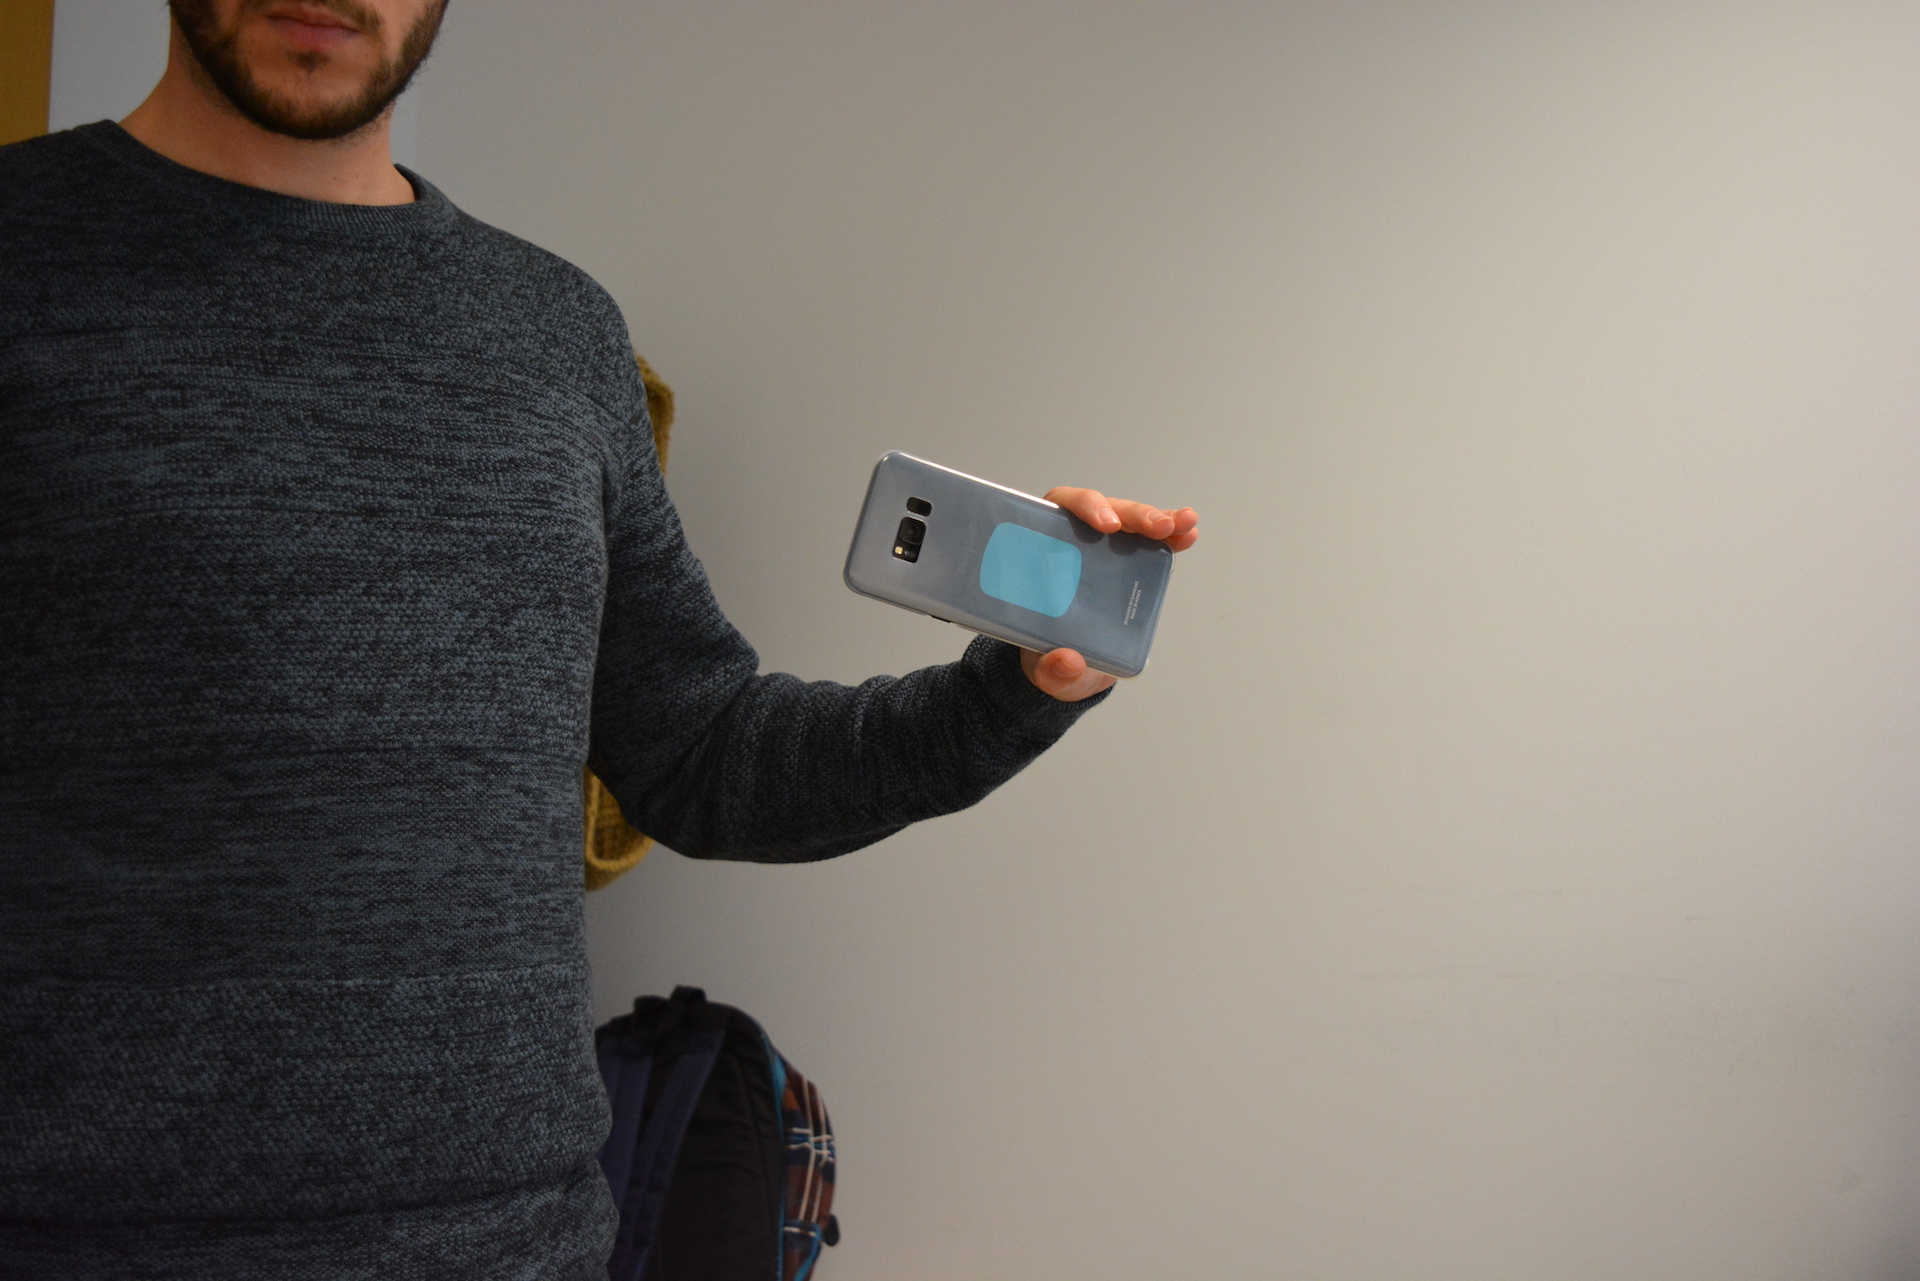smartphone: (841, 447, 1175, 683)
